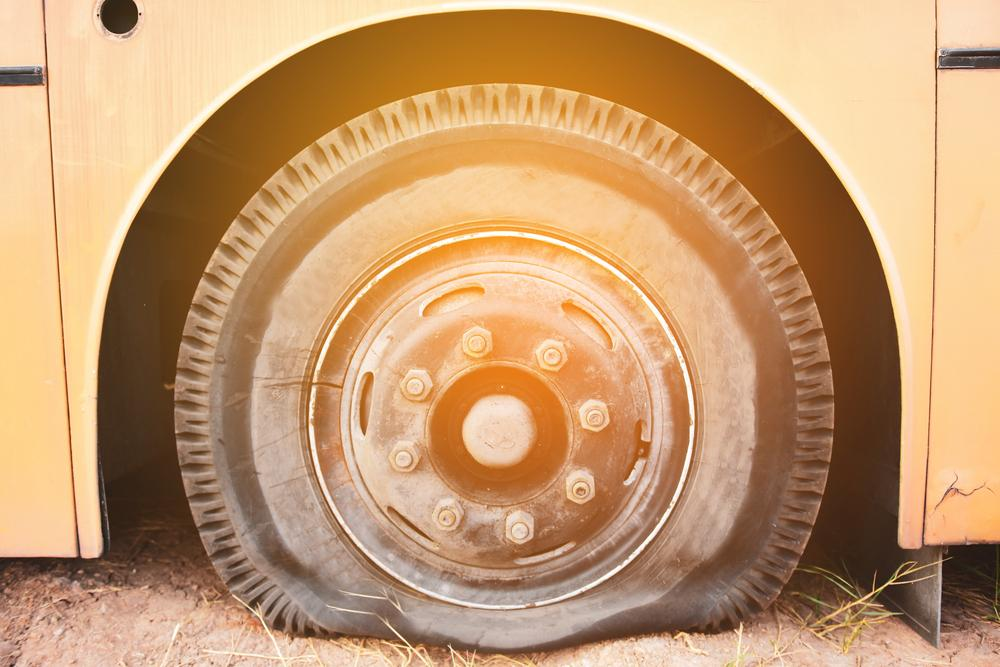tire flat: (171, 83, 835, 652)
